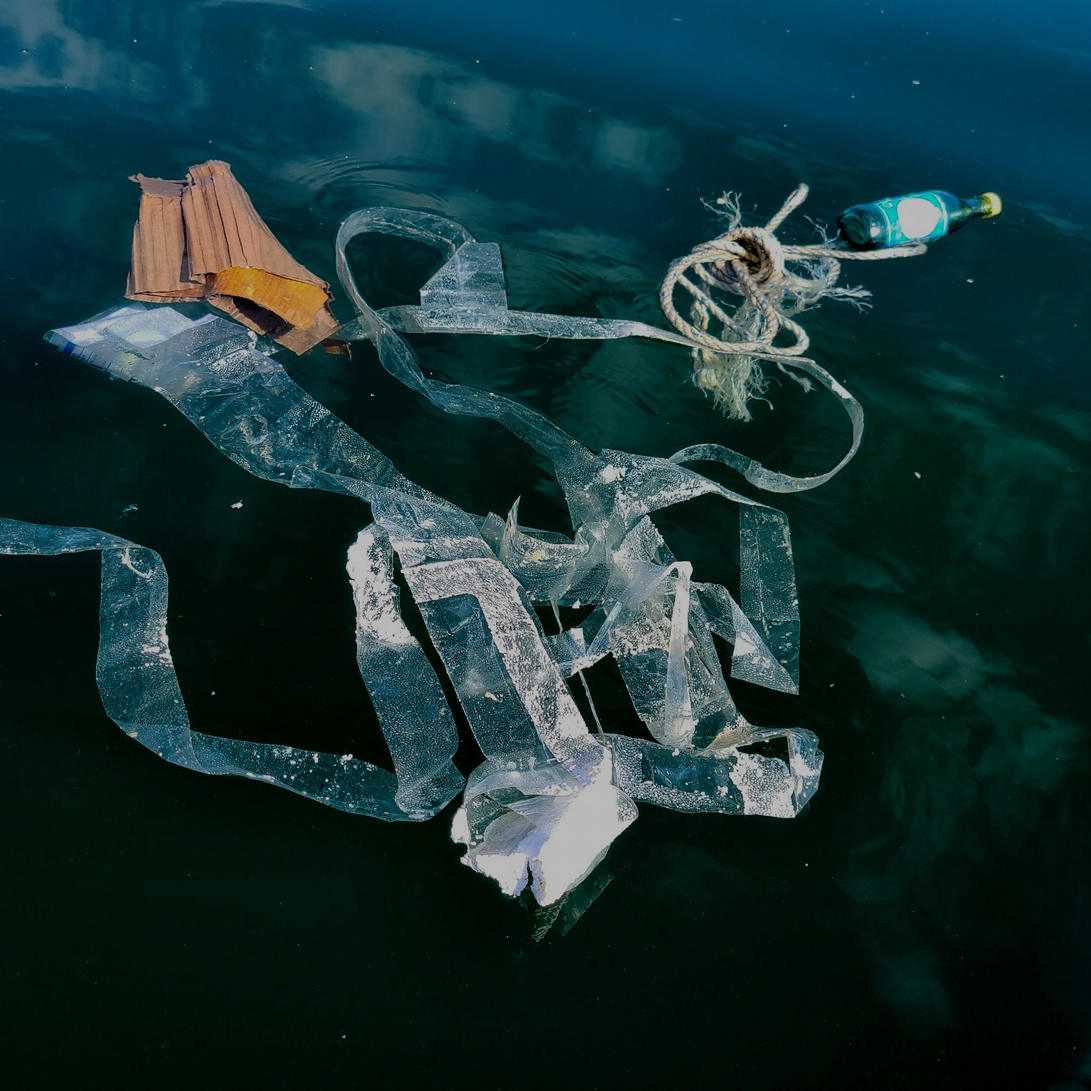sampah_terapung: (659, 183, 928, 422), (460, 753, 618, 907), (837, 190, 1002, 252), (450, 808, 471, 845)
